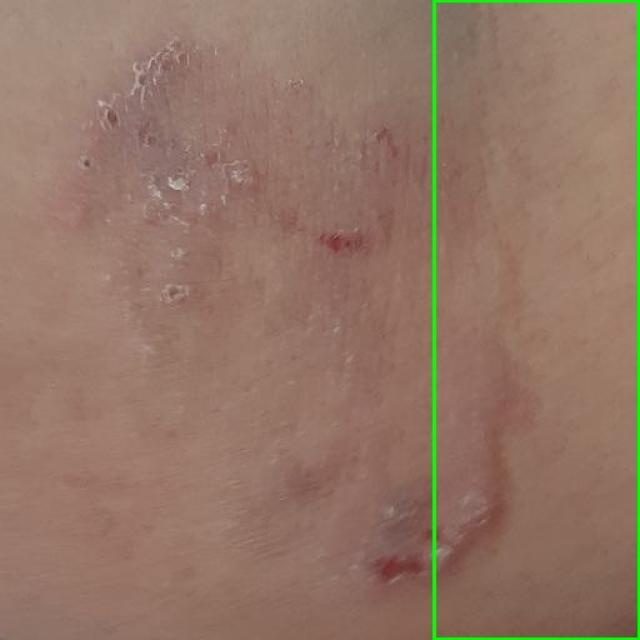Tinea Corporis: (434, 0, 639, 639)
